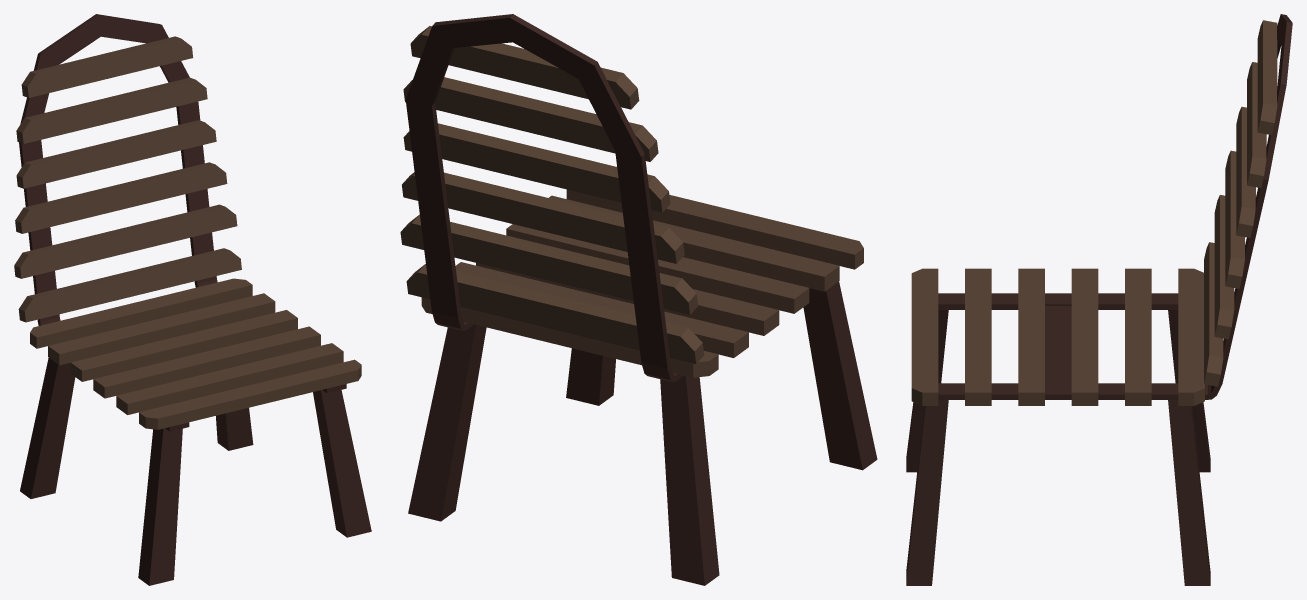
The model's file is P_BENCH 02.fbx.
3 views of the same model, side by side, from view 1: azimuth 30°, elevation 25°; view 2: azimuth 150°, elevation 25°; view 3: azimuth 270°, elevation 25° (orthographic). The views are drawn at different scales.
Parts seen in each view (by area): view 1: Outdoor_Chair; view 2: Outdoor_Chair; view 3: Outdoor_Chair.
Part boxes in pixels (x1,y1,x2,y2): Outdoor_Chair: (14,14,371,585); Outdoor_Chair: (400,14,877,585); Outdoor_Chair: (906,14,1292,585).
Size of the model in its own units: 65.96 by 120 by 84.4.
